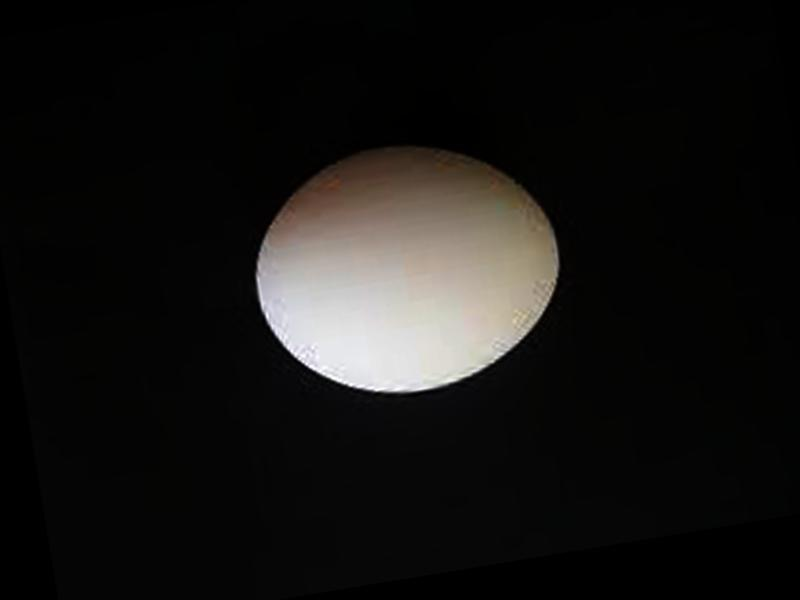Eggs: (245, 123, 580, 413)
